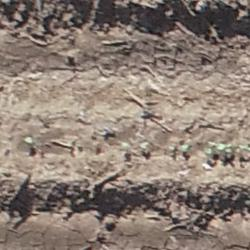cotton: (182, 145, 190, 152), (220, 143, 228, 150), (243, 145, 250, 152), (121, 143, 129, 149), (142, 143, 148, 150), (27, 138, 34, 144), (209, 148, 215, 155)
